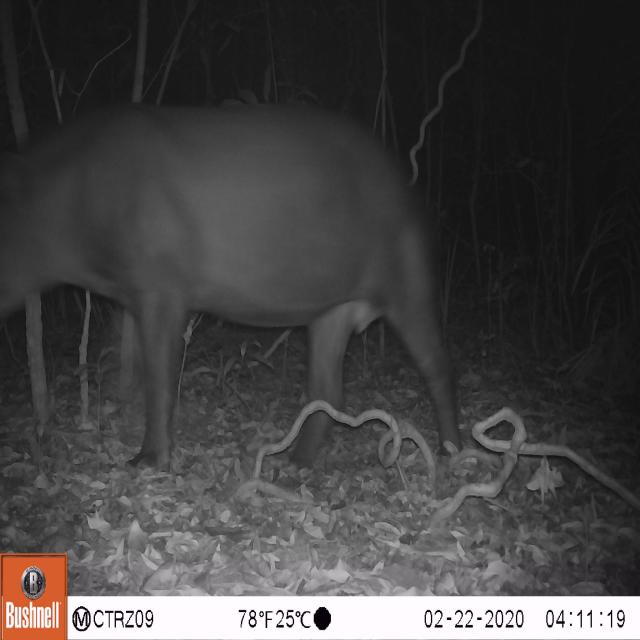Lowland Tapir: (0, 80, 473, 497)
